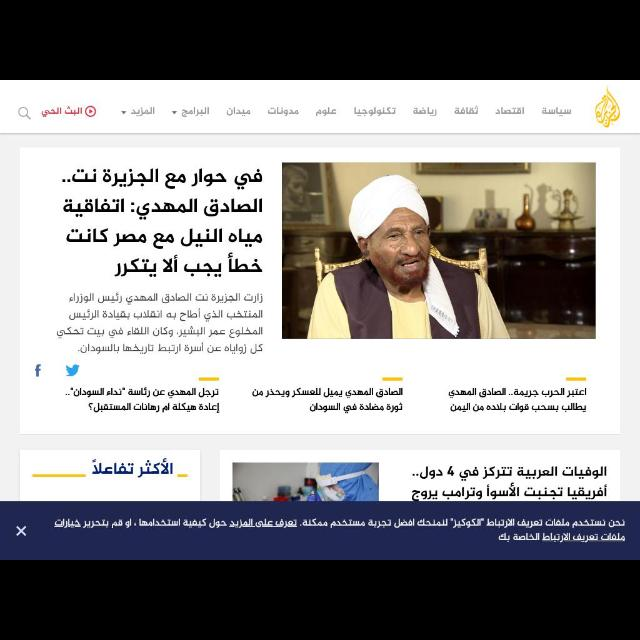icon: (16, 106, 34, 120), (84, 103, 98, 119), (14, 524, 30, 538), (172, 108, 178, 116), (120, 110, 128, 116)
iframe: (1, 503, 639, 559)
image: (282, 163, 596, 337), (232, 464, 380, 501), (590, 84, 624, 128), (64, 364, 80, 376), (32, 364, 44, 378)
spinner: (171, 101, 215, 122), (120, 102, 160, 120)
text: (57, 164, 267, 280), (50, 512, 628, 544), (56, 290, 266, 356), (408, 459, 610, 501), (64, 385, 222, 417), (251, 386, 405, 416), (447, 386, 589, 416), (88, 456, 174, 478), (38, 100, 84, 118), (352, 106, 400, 118), (540, 104, 576, 116), (266, 104, 300, 116), (178, 106, 212, 118), (411, 104, 439, 118), (224, 105, 253, 118), (494, 105, 526, 116), (453, 104, 481, 116), (130, 105, 158, 117), (317, 105, 338, 116)
toolbar: (1, 81, 639, 133)
